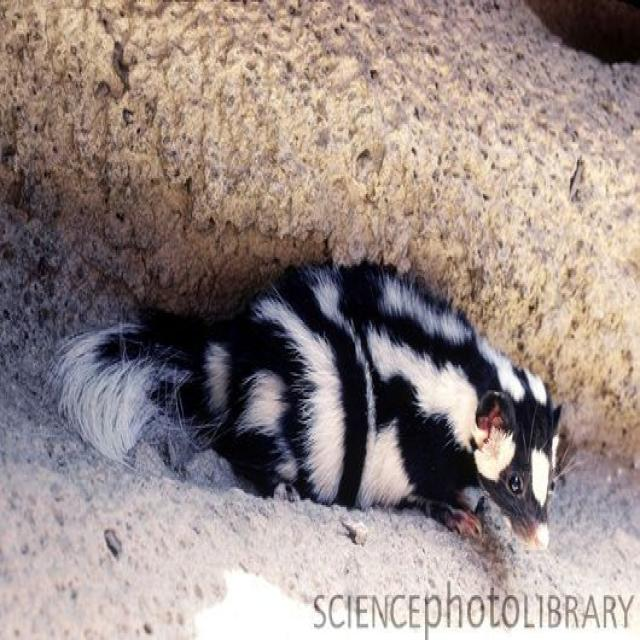Skunk: (61, 246, 573, 544)
